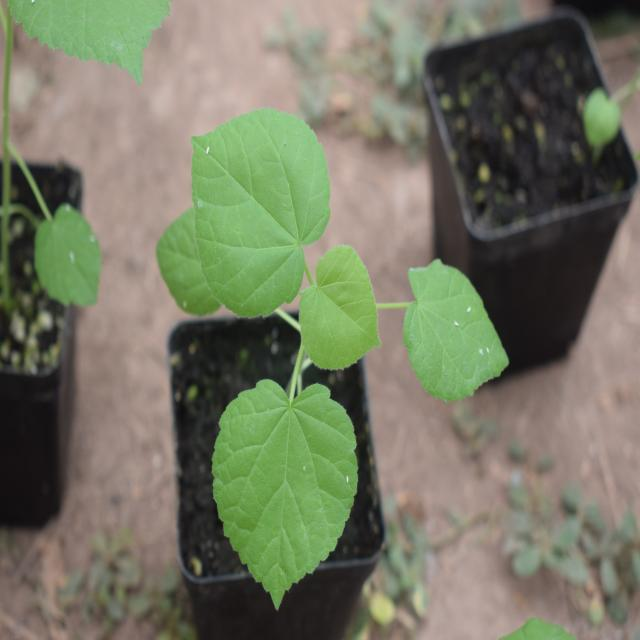abutilon theophrasti: (122, 84, 502, 582)
